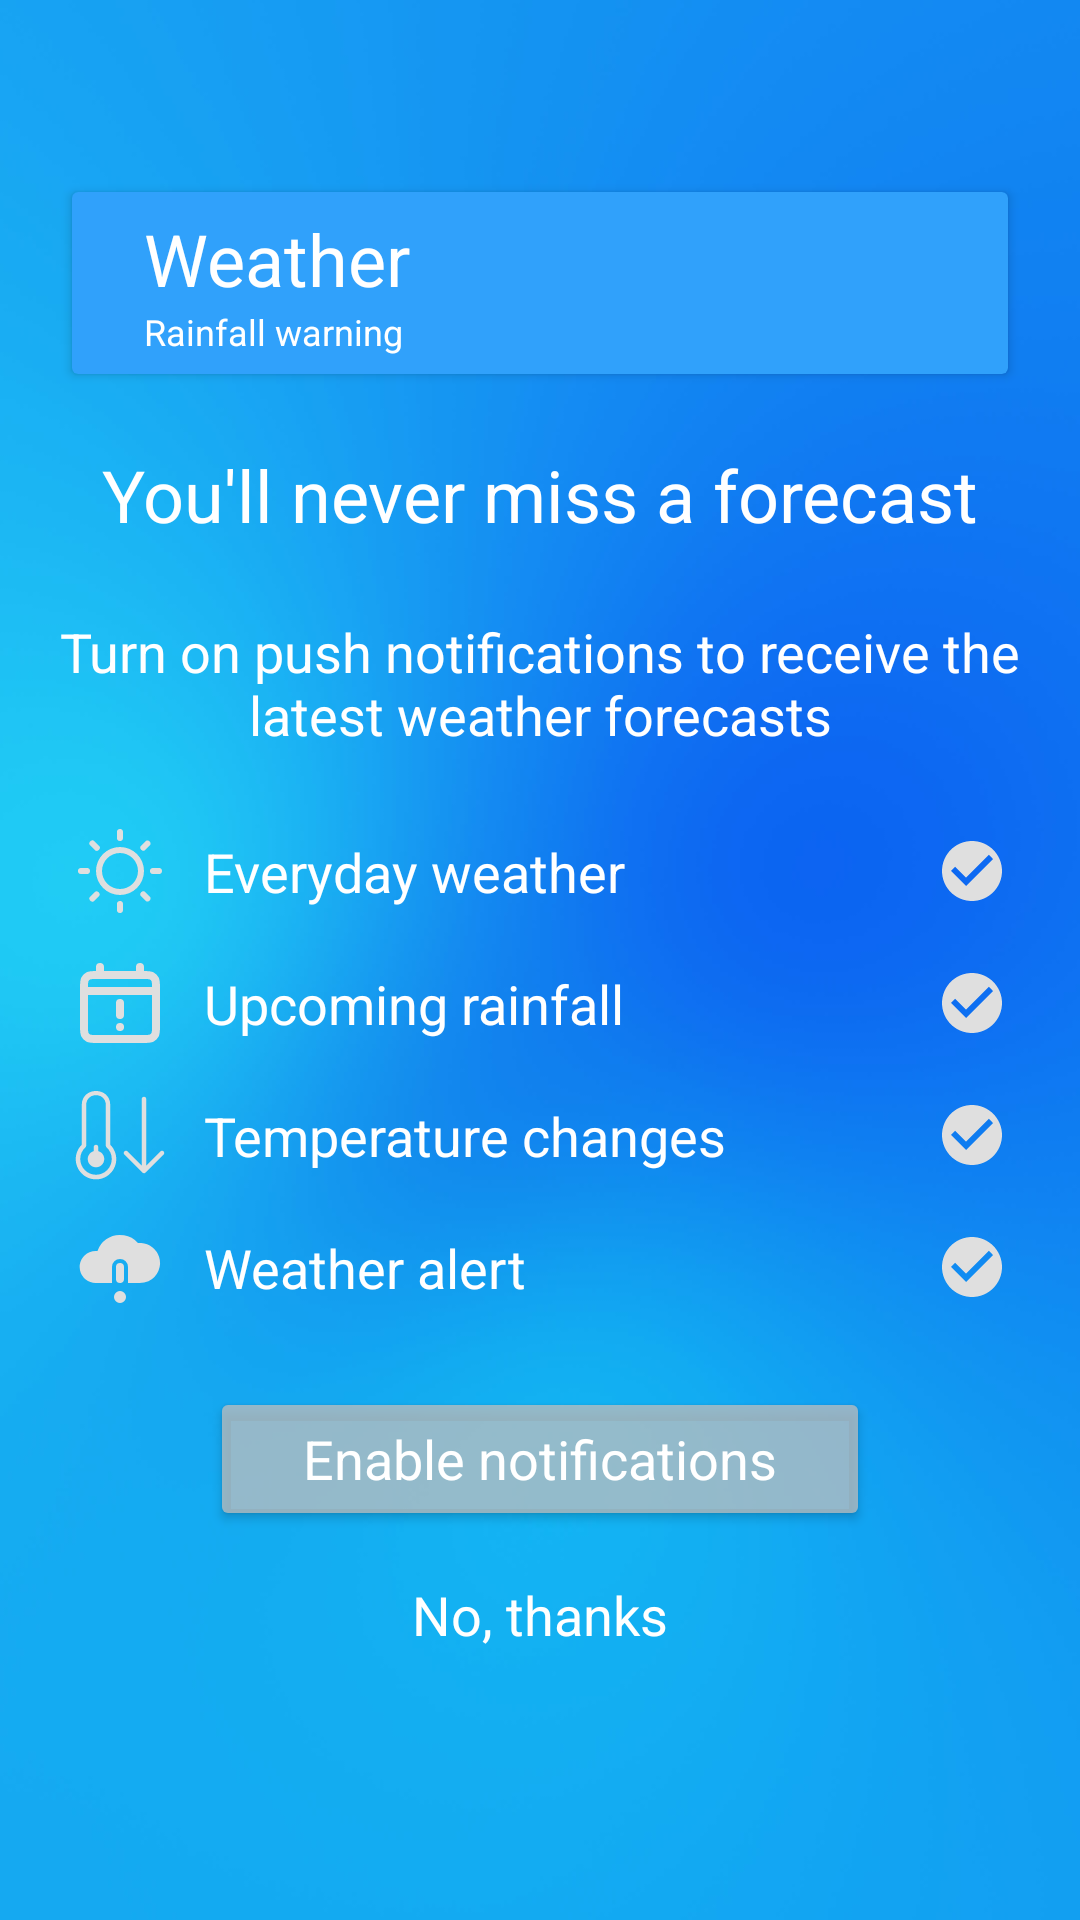

Icon click points for this 1080*1920 phone screenshot, format [x,y]:
temperature down: [119,1135]
